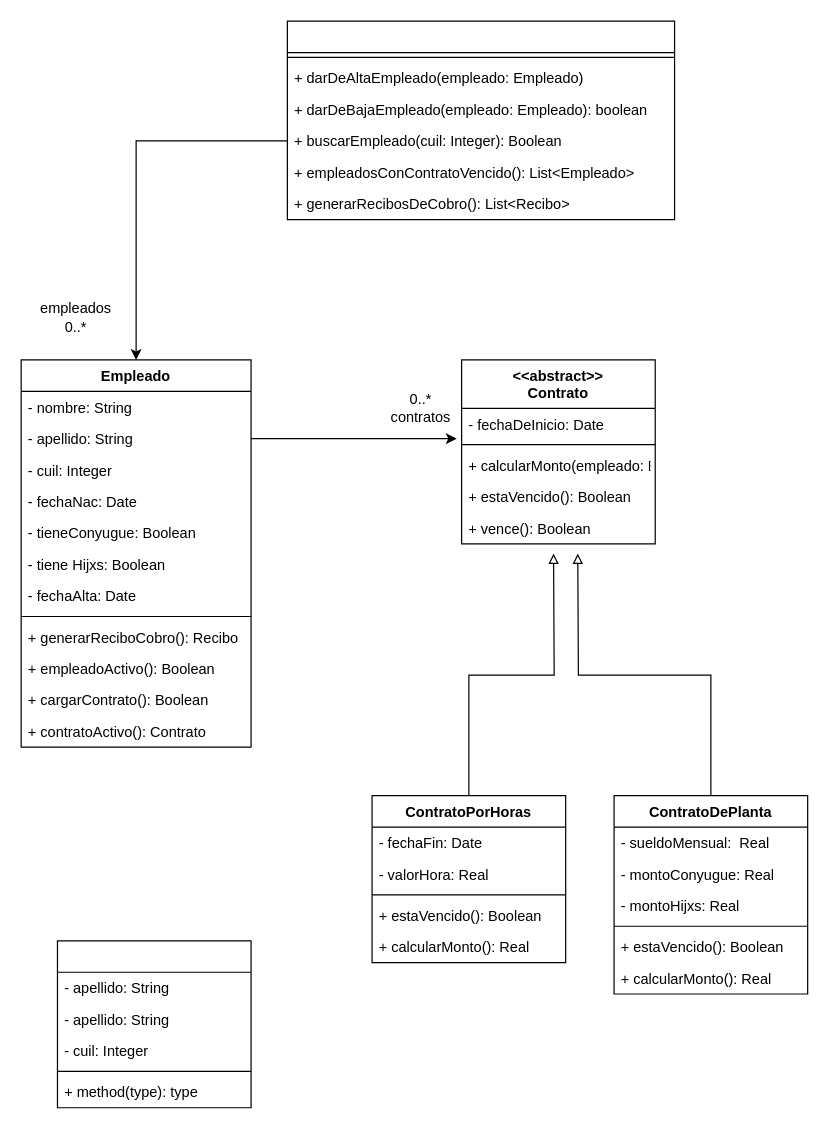
Image size: 829x1133. Some labels were removed from this diagram. The box of each missing label's shape, as (x1, y1, x2, y2) in pixels:
Recibo: (56, 940, 251, 1108)
Sistema: (286, 20, 675, 220)
